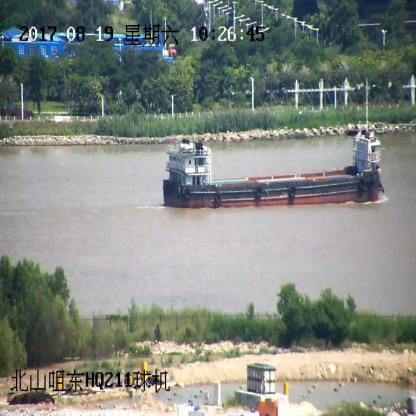Bulk Carrier: (162, 135, 382, 206)
